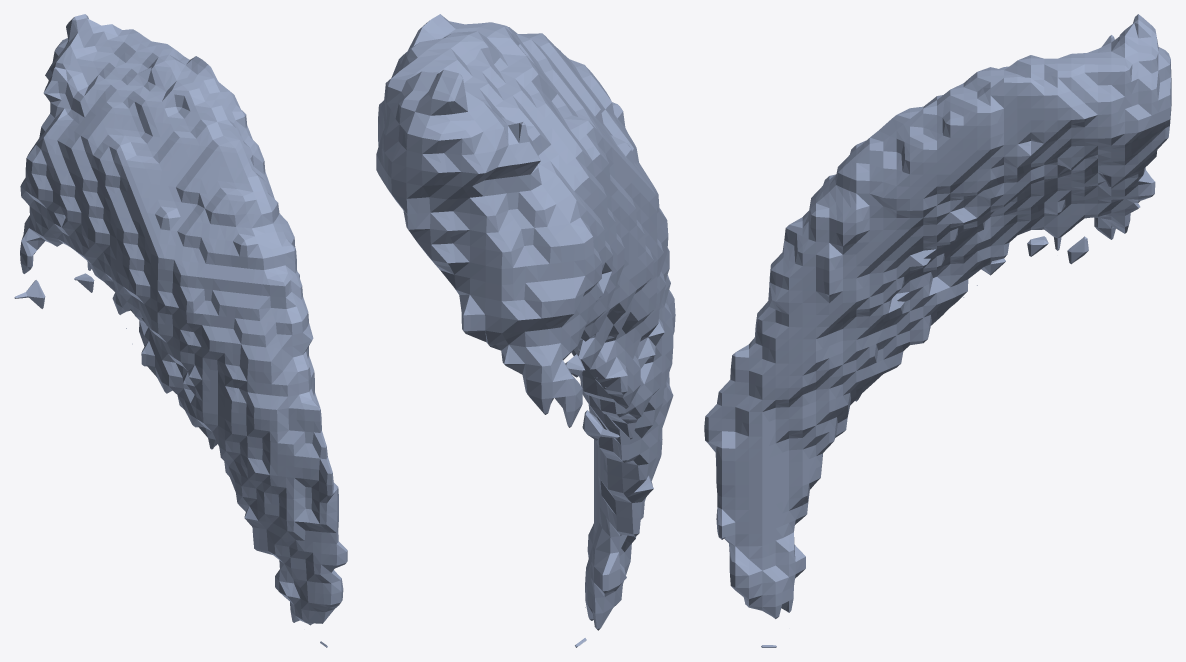
The model's file is r_caudate.glb.
3 renders of one model, left to right at view 1: azimuth 30°, elevation 25°; view 2: azimuth 150°, elevation 25°; view 3: azimuth 270°, elevation 25°, orthographic. The views are drawn at different scales.
Visible parts, largest first — view 1: world; view 2: world; view 3: world.
Boxes of the visible parts, x1,y1,x2,y2 form: world: [14, 14, 347, 647]; world: [376, 14, 675, 647]; world: [704, 14, 1171, 647].
Size of the model in its own units: 16.61 by 48.37 by 34.82.
